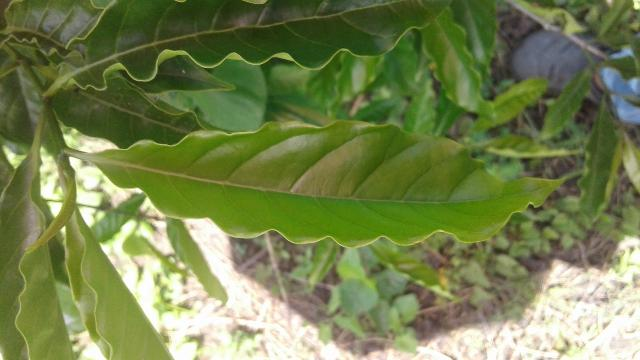healthy: (90, 116, 578, 252)
